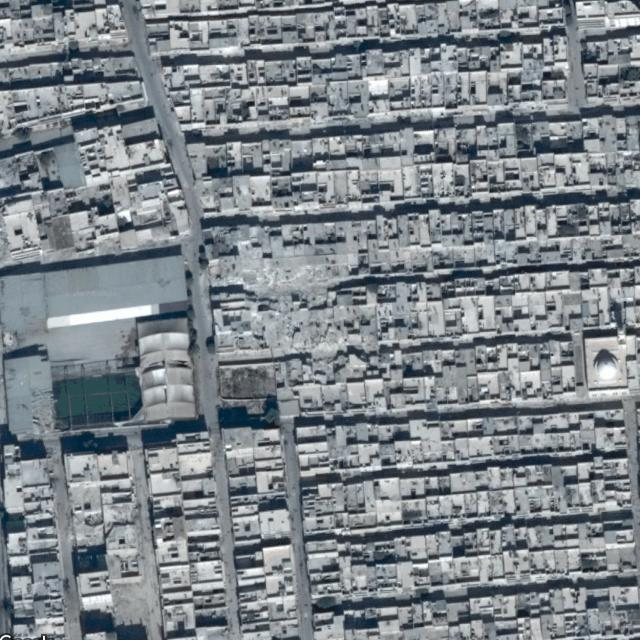damaged_building: (209, 242, 355, 381)
